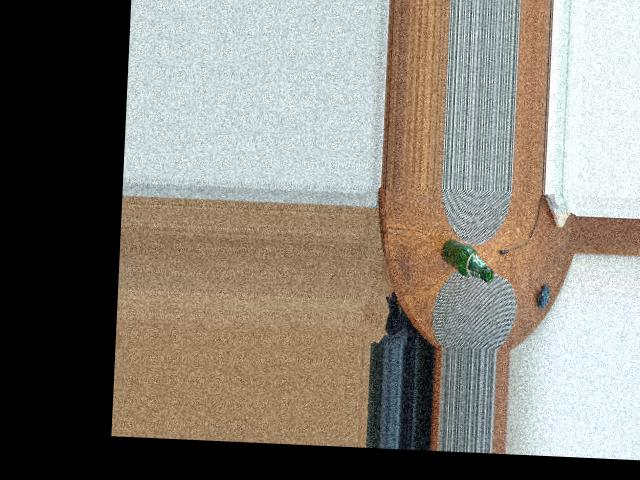beer: (439, 236, 495, 282)
